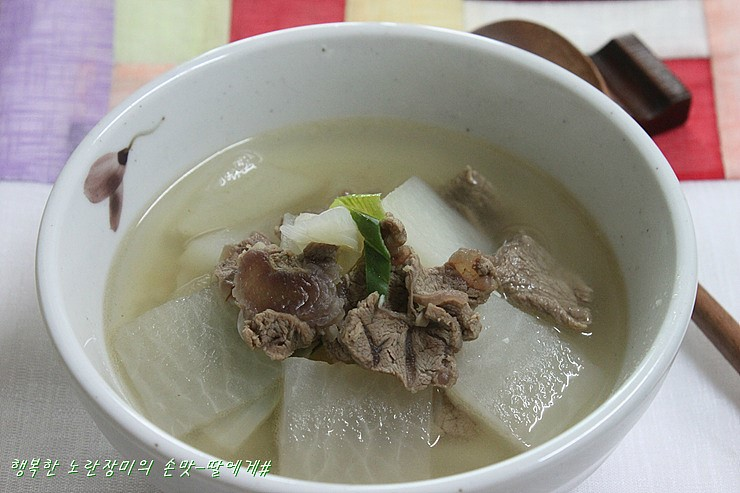mugug: (99, 117, 634, 490)
